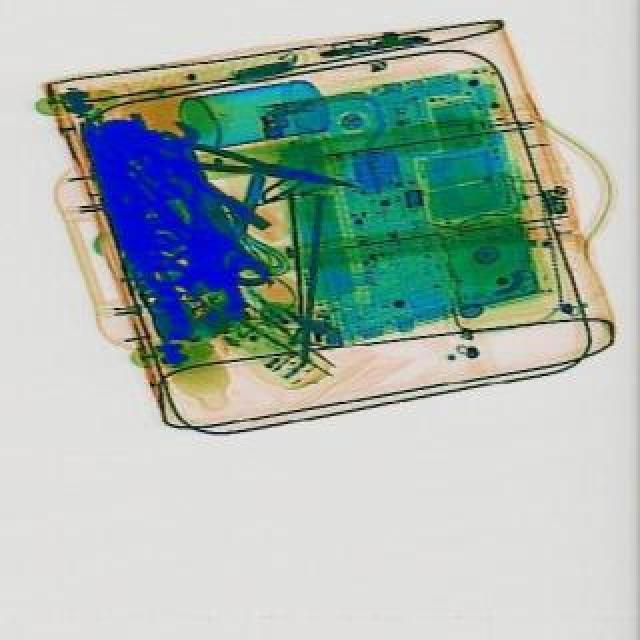wrench: (190, 144, 362, 204)
